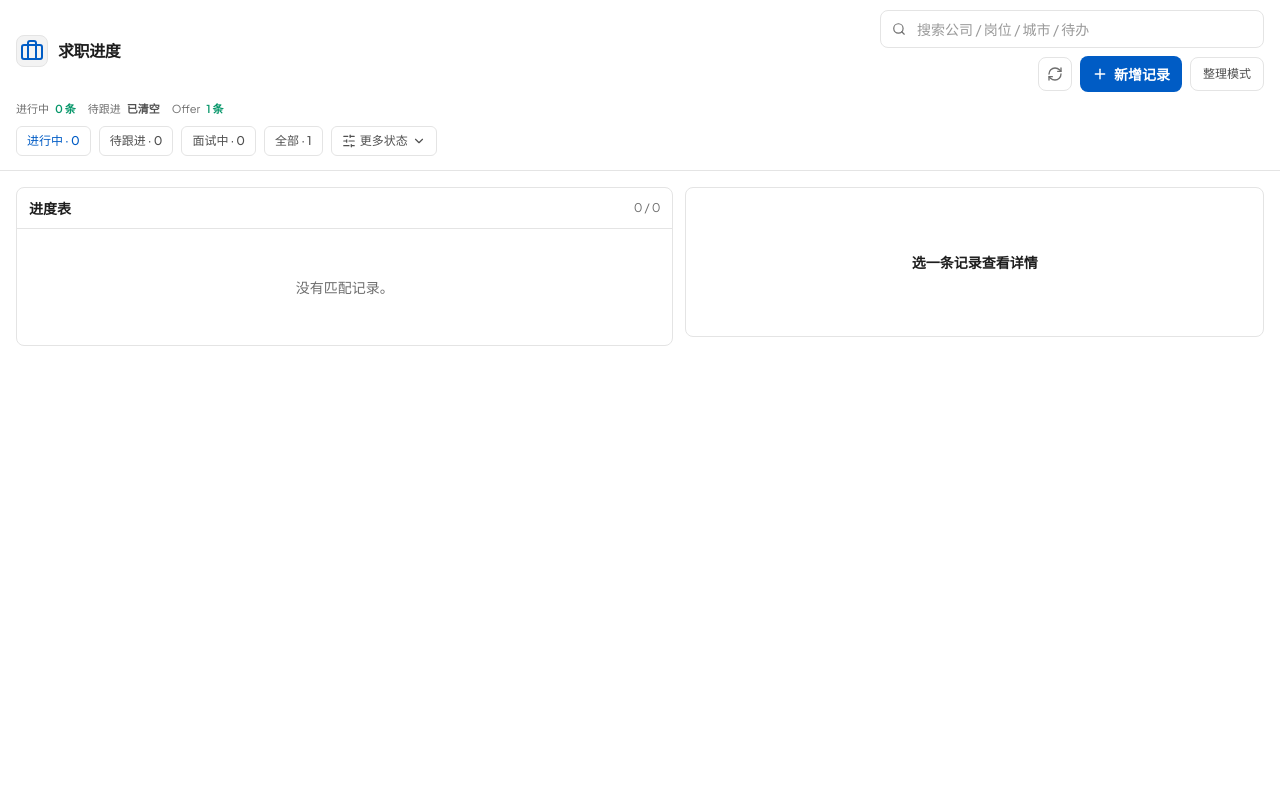
Test: JobTracker › keeps desktop primary filters compact and reveals terminal filters from more status
The image size is (1280, 800).
Expected: the text "Offer Co" is not shown
Expected: the button "Offer · 1" is not shown
Click the button "更多状态": (384, 141) [331, 126, 437, 156]
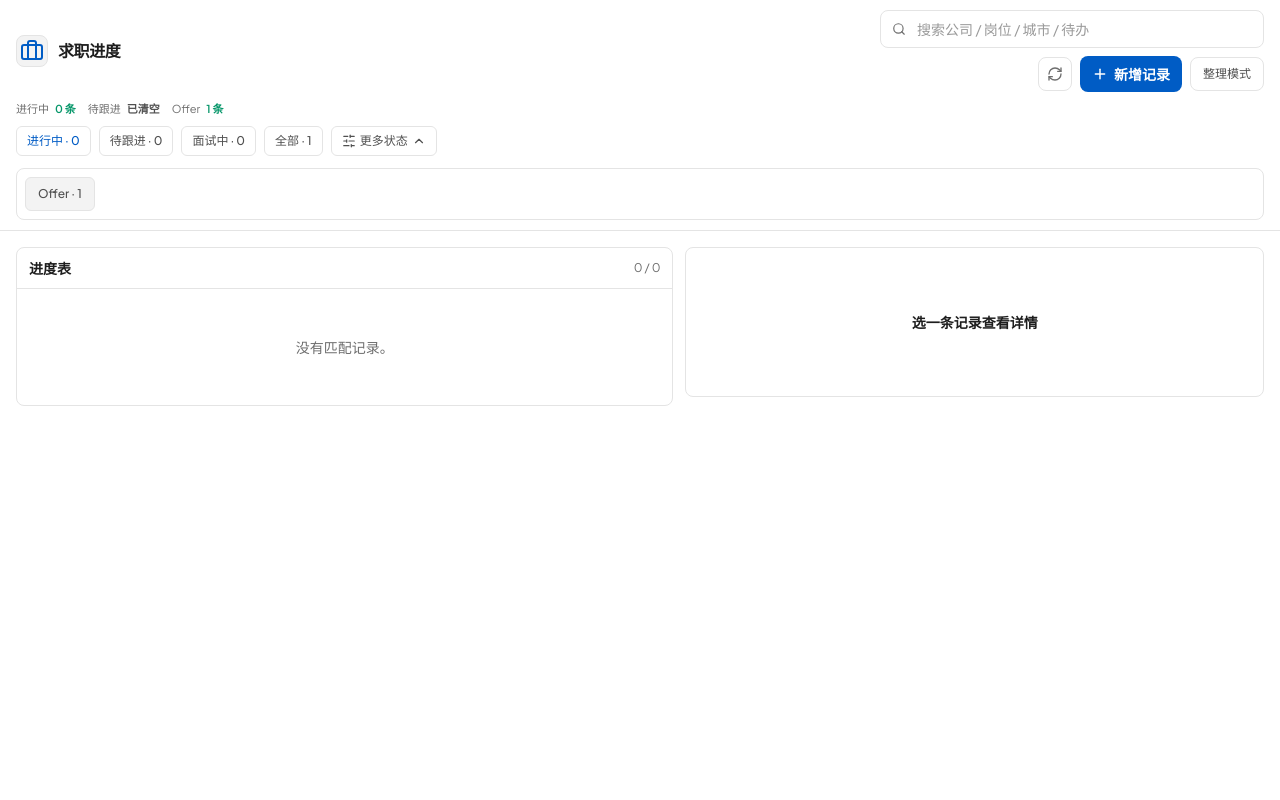
Click the button "Offer · 1": (60, 194) [25, 177, 95, 211]
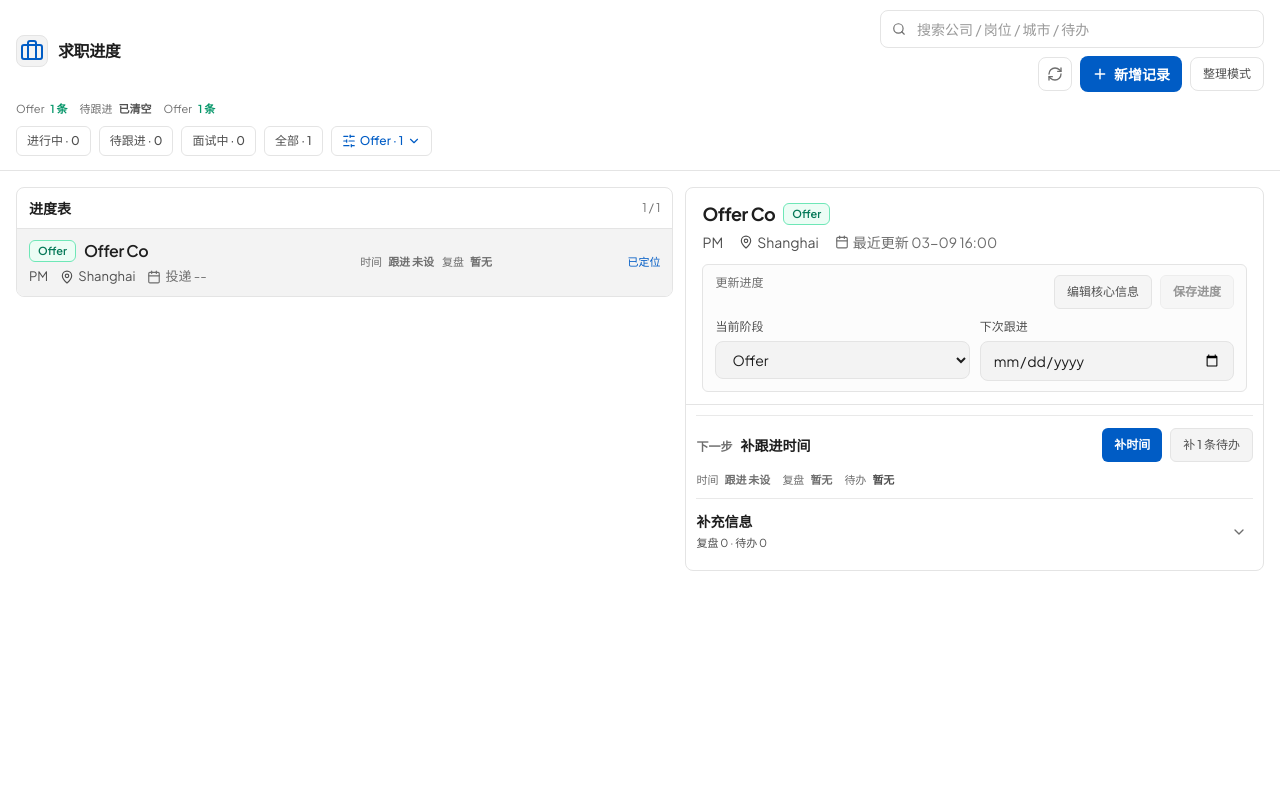
Result: the text "Offer Co" is shown at [84, 239, 148, 263]
Result: the button "Offer · 1" is shown at [331, 126, 432, 156]
